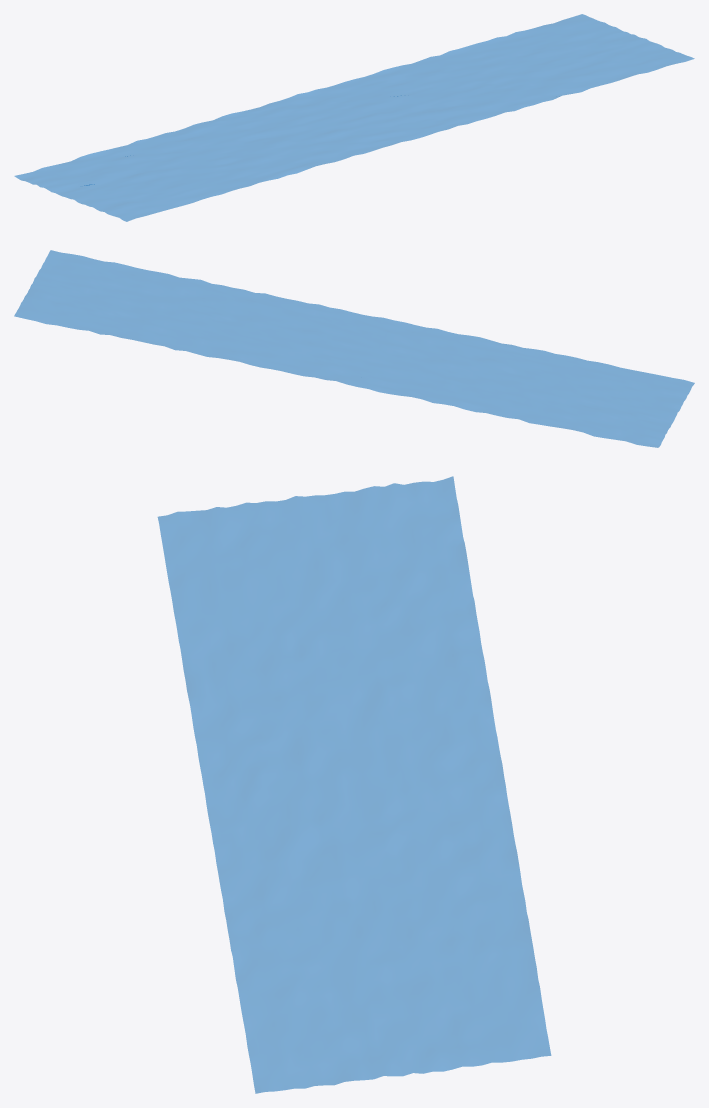
Rendered from zeminwave.gltf.
3 views of the same model, one above another, from view 1: azimuth 30°, elevation 25°; view 2: azimuth 150°, elevation 25°; view 3: azimuth 270°, elevation 25° (orthographic). The views are drawn at different scales.
Visible parts, largest first — view 1: PlaneShape_0; view 2: PlaneShape_0; view 3: PlaneShape_0.
Boxes of the visible parts, x1,y1,x2,y2 form: PlaneShape_0: [14, 14, 694, 221]; PlaneShape_0: [14, 250, 694, 447]; PlaneShape_0: [157, 476, 551, 1093].
Bounding box in the file's own units: 1687 × 7.23 × 455.
